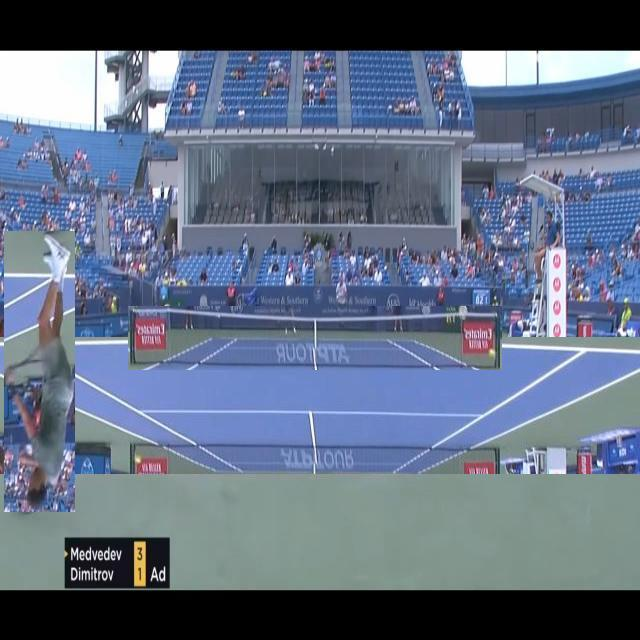court: (0, 338, 640, 476)
net: (128, 306, 502, 370)
player: (4, 232, 75, 514)
